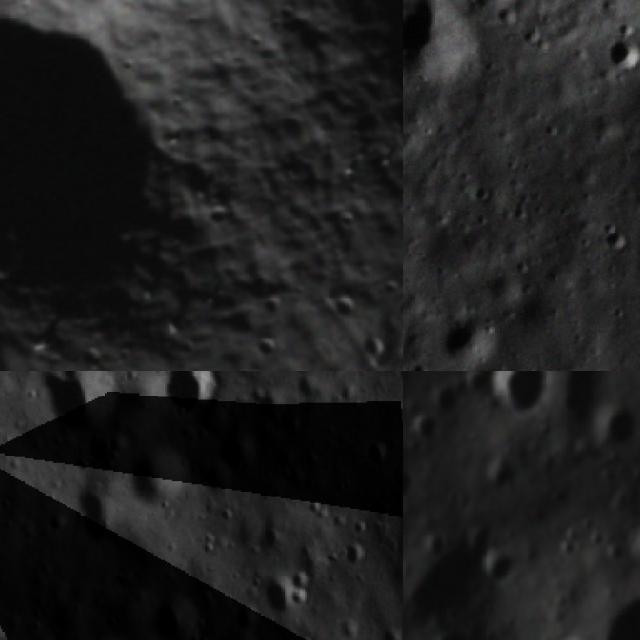crater: (0, 0, 302, 371), (403, 0, 496, 90), (42, 371, 120, 435), (124, 443, 192, 515), (63, 481, 128, 555), (436, 316, 499, 366), (159, 371, 222, 420), (319, 281, 371, 335), (489, 371, 546, 420), (595, 402, 637, 460), (149, 597, 203, 640), (260, 569, 302, 623), (221, 432, 256, 481), (479, 552, 522, 590), (600, 34, 640, 72), (364, 440, 396, 478), (602, 227, 634, 259), (342, 540, 369, 573), (624, 525, 640, 568), (403, 464, 415, 508)
